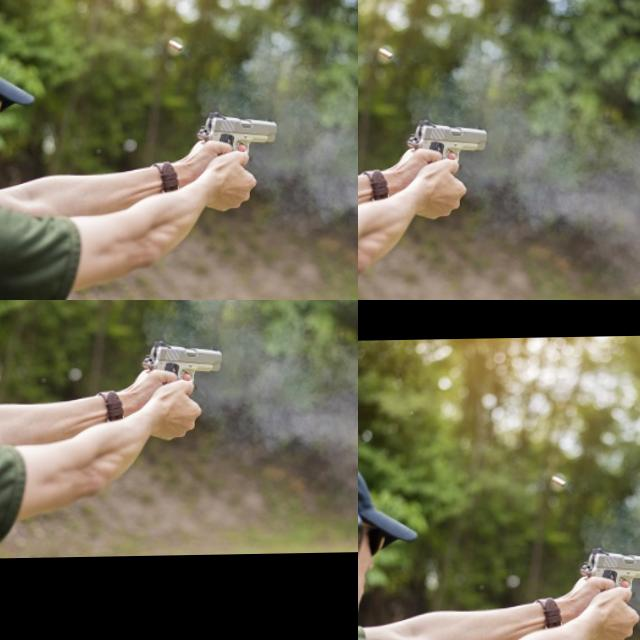handgun: (113, 0, 301, 78), (578, 543, 640, 591)
